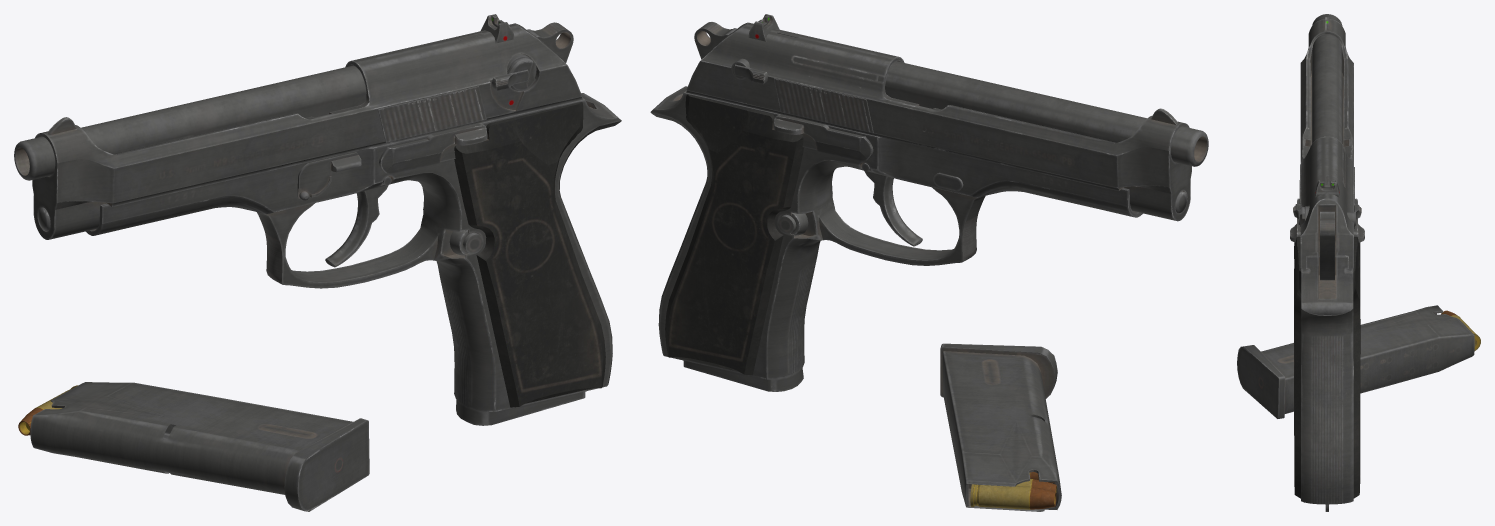
The model's file is m9-bayati.glb.
3 renders of one model, left to right at view 1: azimuth 30°, elevation 25°; view 2: azimuth 150°, elevation 25°; view 3: azimuth 270°, elevation 25°, orthographic. The views are drawn at different scales.
Parts seen in each view (by area): view 1: Gun_BerettaM9_0, Gun001_BerettaM9_0, Magazine_BerettaM9_0; view 2: Gun_BerettaM9_0, Gun001_BerettaM9_0, Magazine_BerettaM9_0; view 3: Gun_BerettaM9_0, Gun001_BerettaM9_0.
Boxes of the visible parts, bbox=[...] form: Gun_BerettaM9_0: bbox=[14, 14, 621, 425]; Gun001_BerettaM9_0: bbox=[18, 382, 369, 511]; Magazine_BerettaM9_0: bbox=[456, 391, 585, 425]; Gun_BerettaM9_0: bbox=[650, 14, 1208, 390]; Gun001_BerettaM9_0: bbox=[940, 343, 1061, 511]; Magazine_BerettaM9_0: bbox=[683, 361, 803, 391]; Gun_BerettaM9_0: bbox=[1290, 14, 1364, 511]; Gun001_BerettaM9_0: bbox=[1237, 305, 1480, 418].
Bounding box in the file's own units: 3.32 × 2.17 × 1.59.
Materials: 1 (1 with a texture image).
